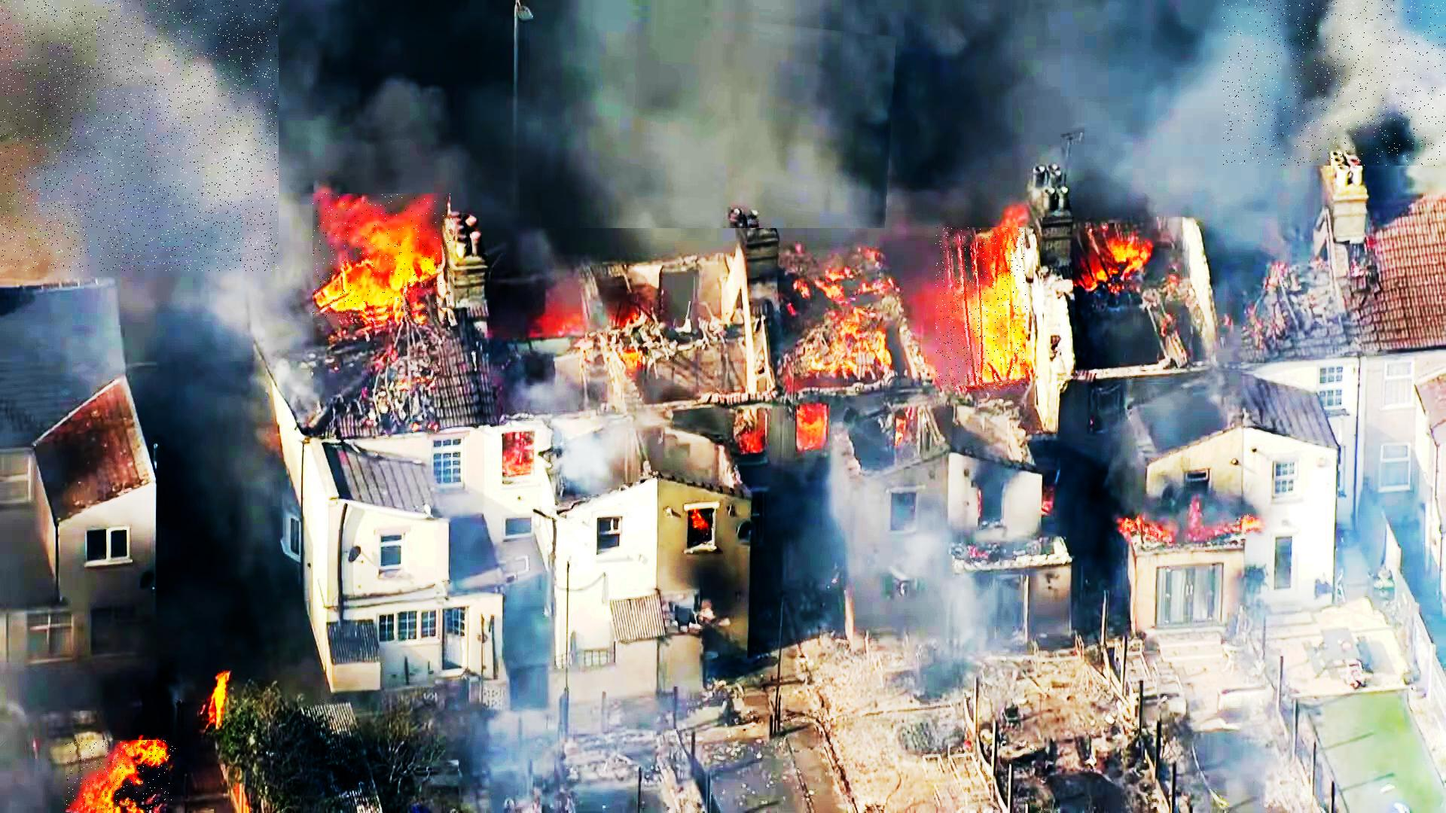fire: (313, 194, 453, 323), (936, 228, 1028, 389), (66, 740, 176, 813)
smoke: (542, 0, 896, 228), (0, 0, 279, 271), (1222, 0, 1446, 166)
